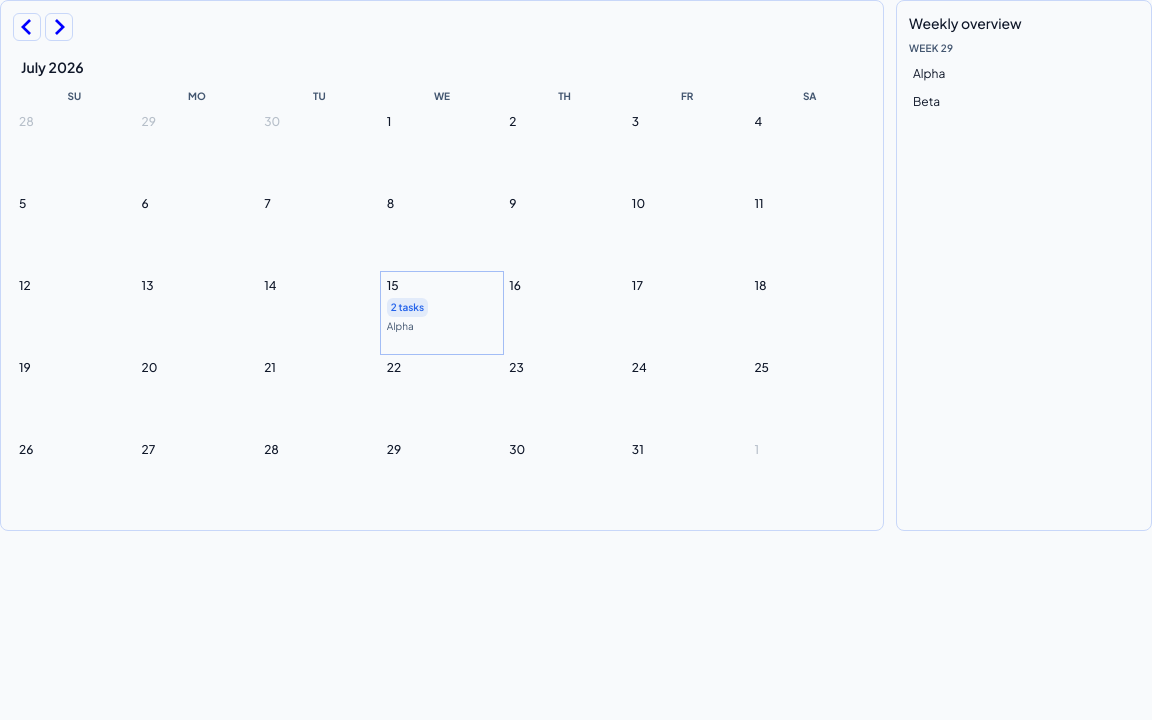
Test: CalendarView — day panel + drawer › opens DayPanel on cell click and lists the day tasks
This screenshot has width=1152, height=720.
Expected: the element with test id "calendar-view" is shown, [0, 0, 884, 531]
Click the button with test id "calendar-day-2026-07-15".
click(442, 313)  # box [382, 273, 502, 353]
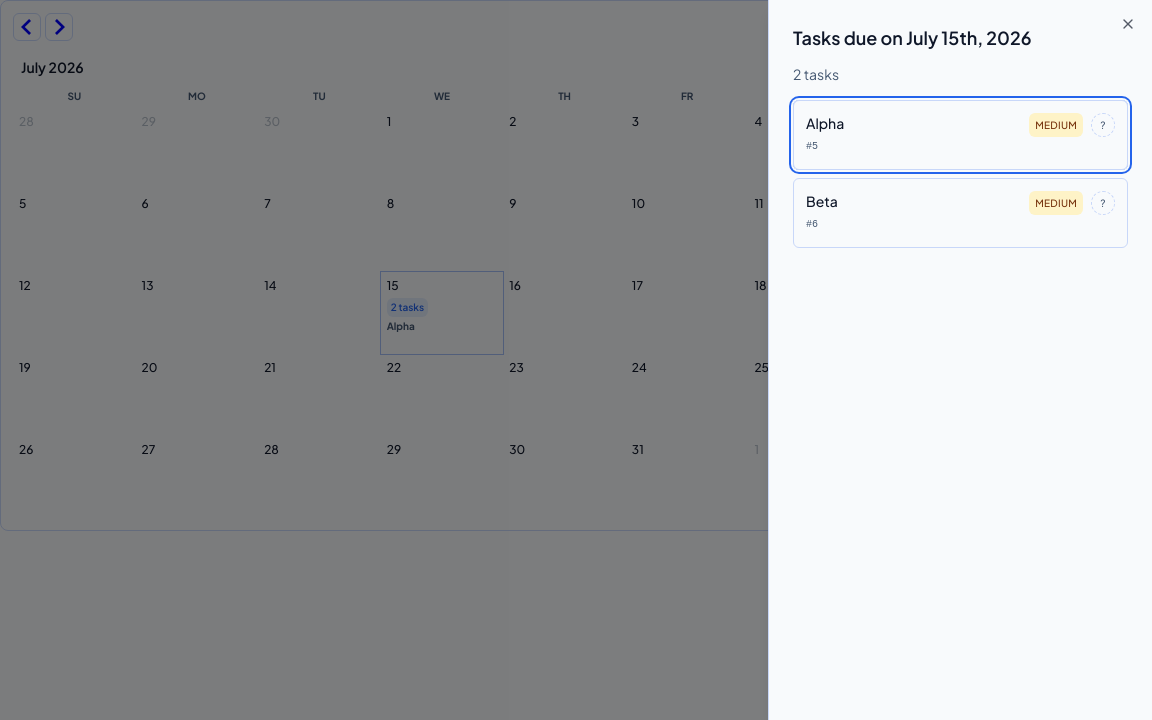
Expected: the dialog with test id "calendar-day-panel" is shown, [768, 0, 1151, 719]
Expected: the text "Alpha" is shown, [806, 114, 844, 132]
Expected: the text "Beta" is shown, [806, 192, 838, 210]
